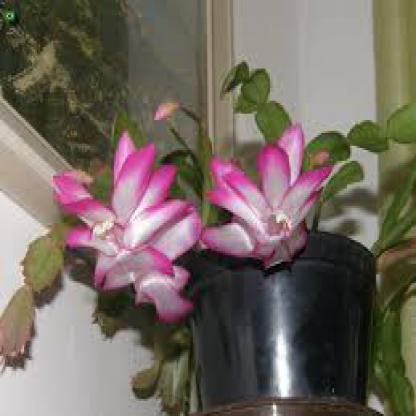Aglonema: (19, 75, 416, 379)
